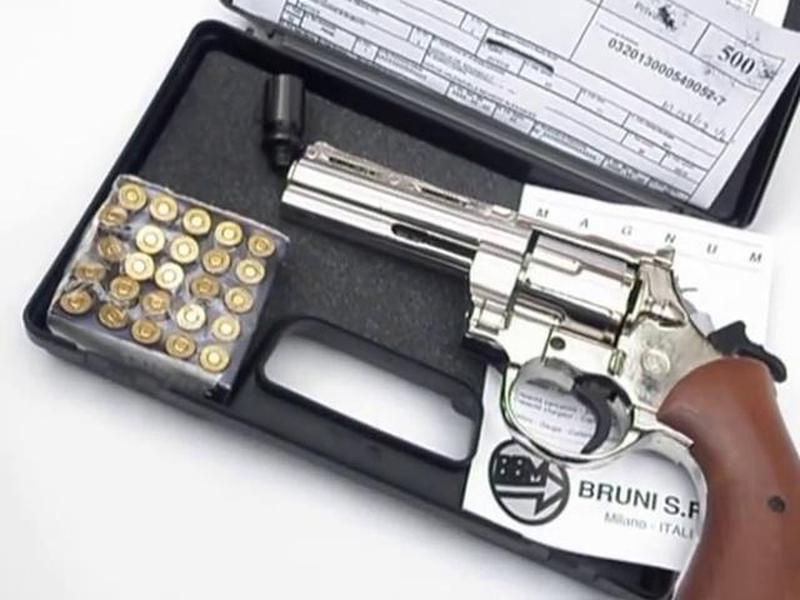Revolver: (281, 140, 795, 594)
